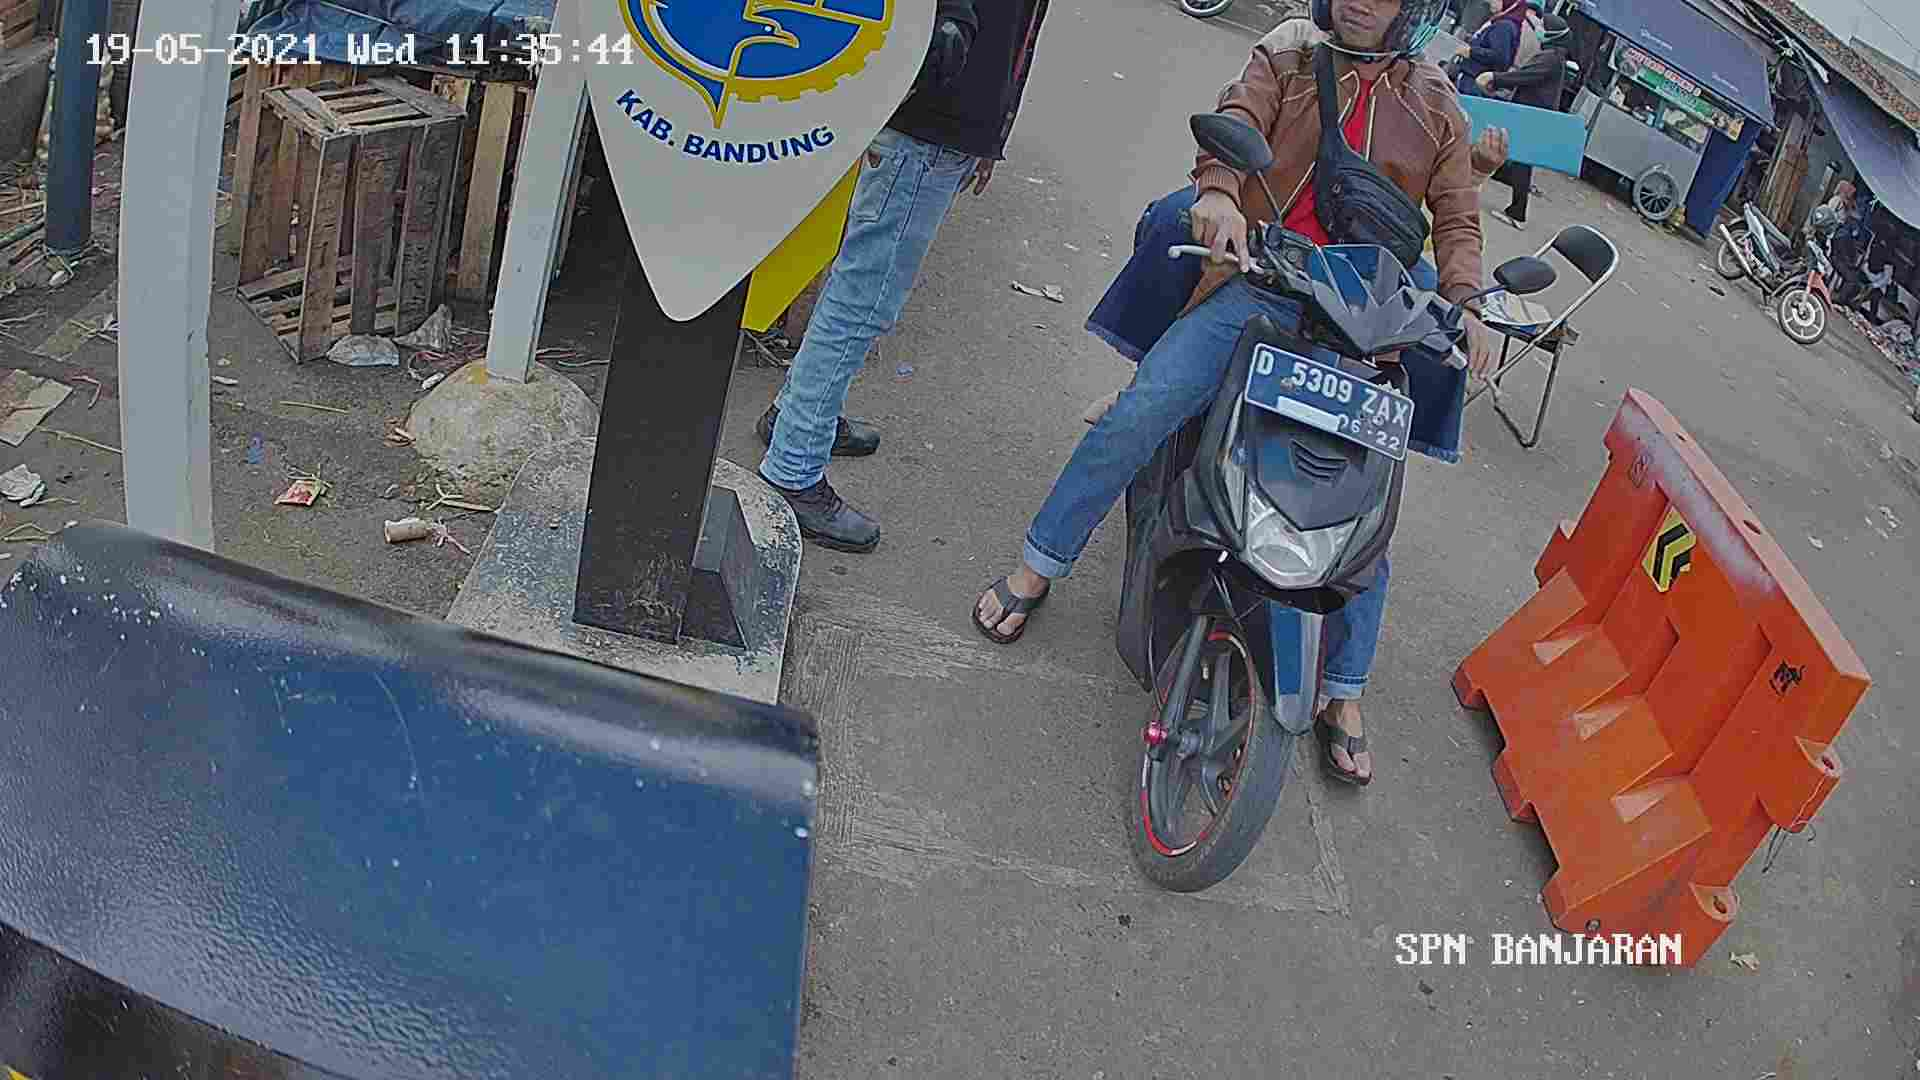motor: (1106, 171, 1416, 893)
